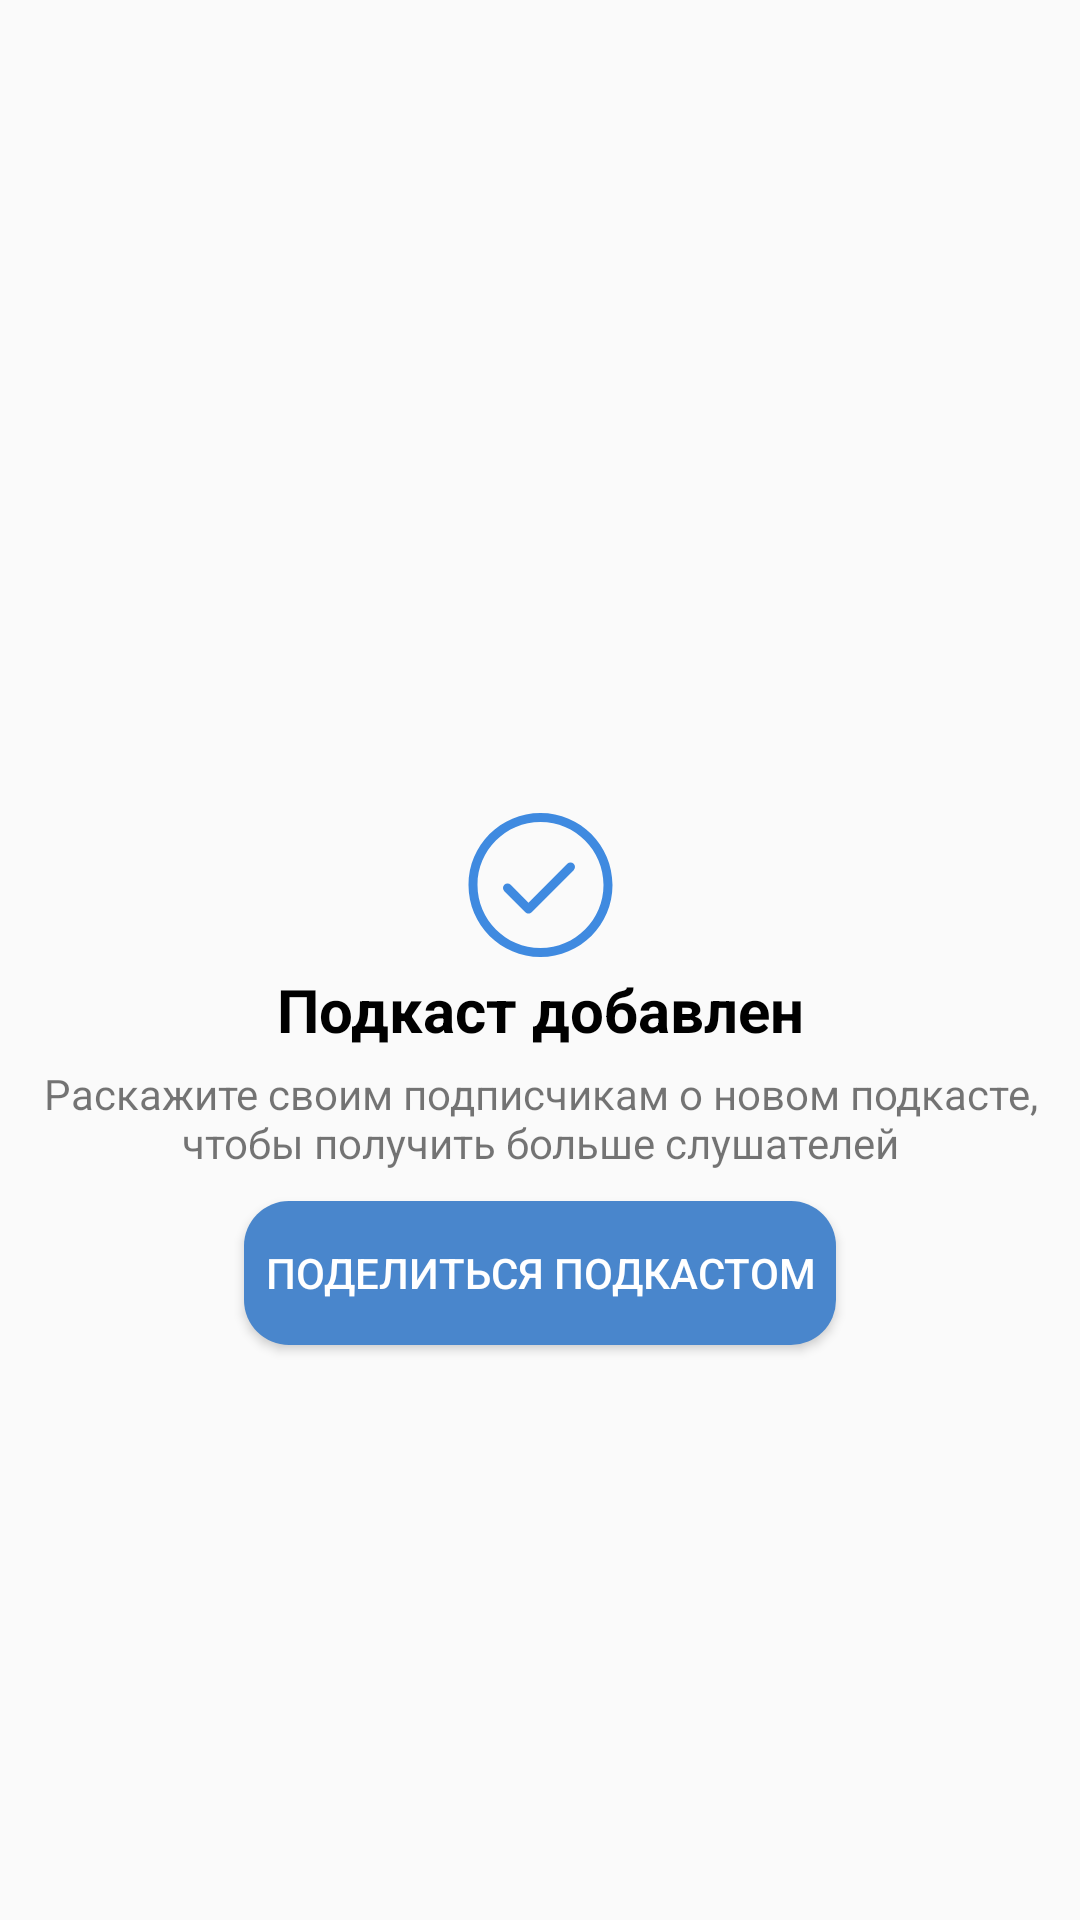

Named icons in this screenshot (1080px x 1920px) and their centers, [x,y]:
check circle: [540,885]
